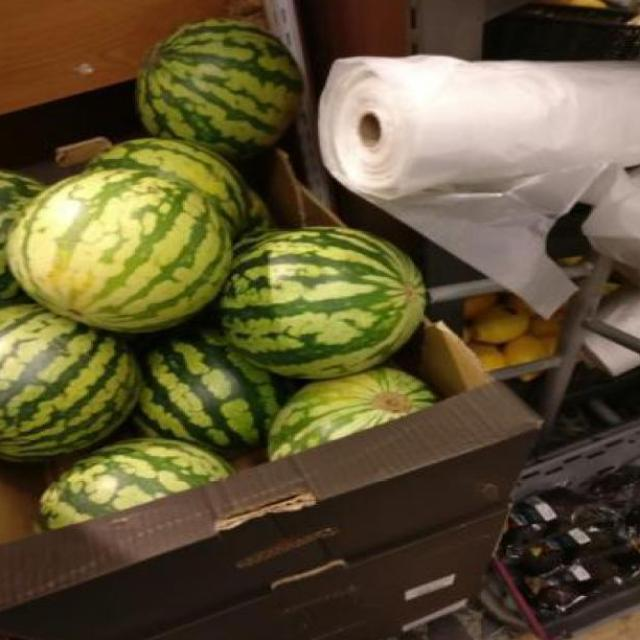Watermelon: (10, 167, 226, 333), (222, 228, 428, 380), (128, 21, 304, 155), (0, 305, 141, 457), (137, 337, 289, 451), (272, 369, 439, 463)
